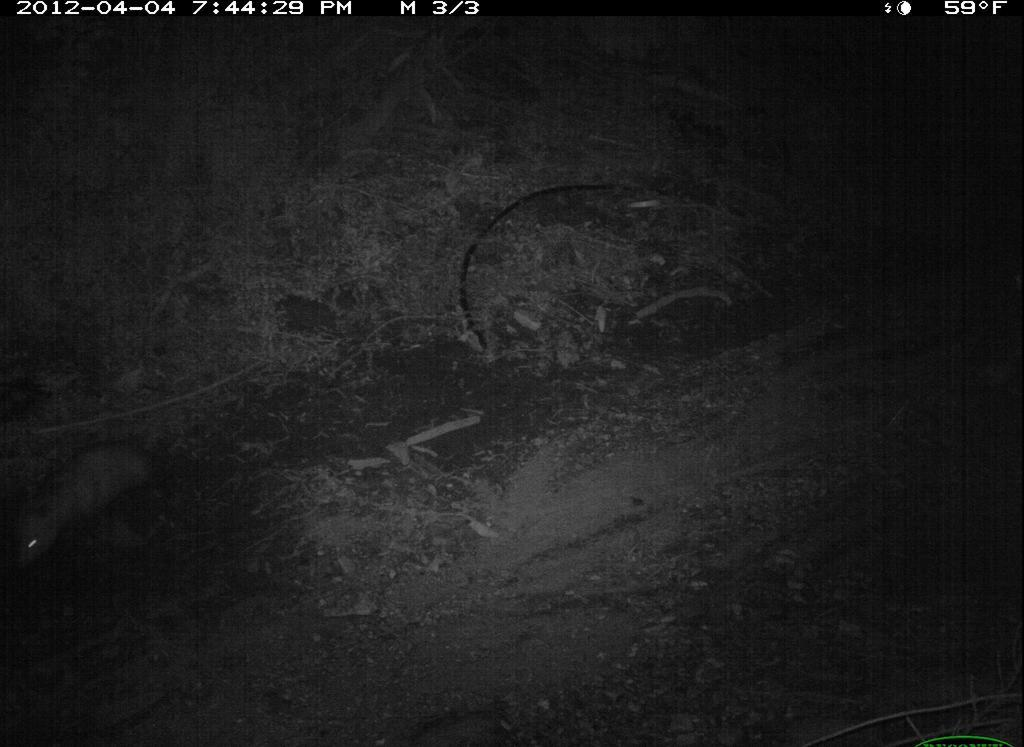opossum: (4, 434, 178, 575)
